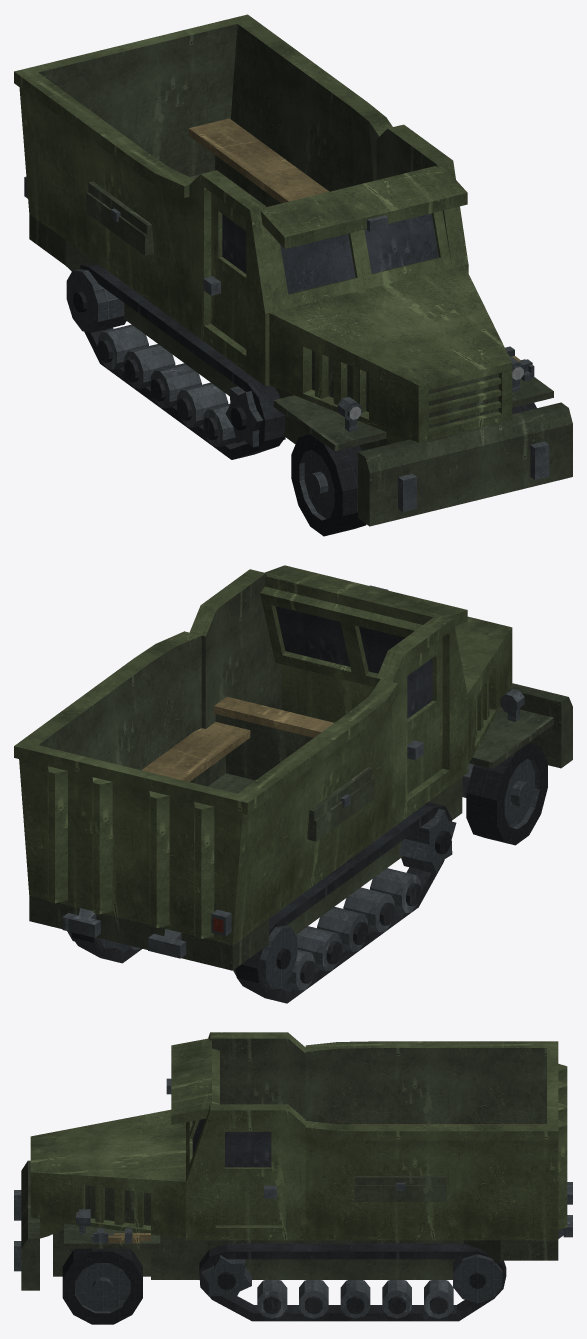
Rendered from near_apc.glb.
3 views of the same model, one above another, from view 1: azimuth 30°, elevation 25°; view 2: azimuth 150°, elevation 25°; view 3: azimuth 270°, elevation 25° (orthographic). The views are drawn at different scales.
Parts seen in each view (by area): view 1: half-track-hull, tyre-fl, idlers-discs, sprockets-discs; view 2: half-track-hull, tyre-fl, sprockets-discs, idlers-discs; view 3: half-track-hull, tyre-fr, idlers-discs, sprockets-discs, pioneer-tools.
Boxes of the visible parts, left/top/right/bottom form: half-track-hull: left=14, top=14, right=572, bottom=526; tyre-fl: left=291, top=434, right=366, bottom=536; idlers-discs: left=66, top=269, right=126, bottom=332; sprockets-discs: left=225, top=386, right=285, bottom=447; half-track-hull: left=14, top=565, right=572, bottom=1003; tyre-fl: left=466, top=743, right=547, bottom=845; sprockets-discs: left=398, top=808, right=456, bottom=873; idlers-discs: left=67, top=926, right=297, bottom=989; half-track-hull: left=14, top=1032, right=572, bottom=1321; tyre-fr: left=62, top=1248, right=142, bottom=1324; idlers-discs: left=453, top=1254, right=502, bottom=1303; sprockets-discs: left=201, top=1255, right=251, bottom=1302; pioneer-tools: left=91, top=1228, right=150, bottom=1243.
Size of the model in its own units: 2.3 by 2.55 by 6.04.
Materials: 2 (2 with a texture image).
